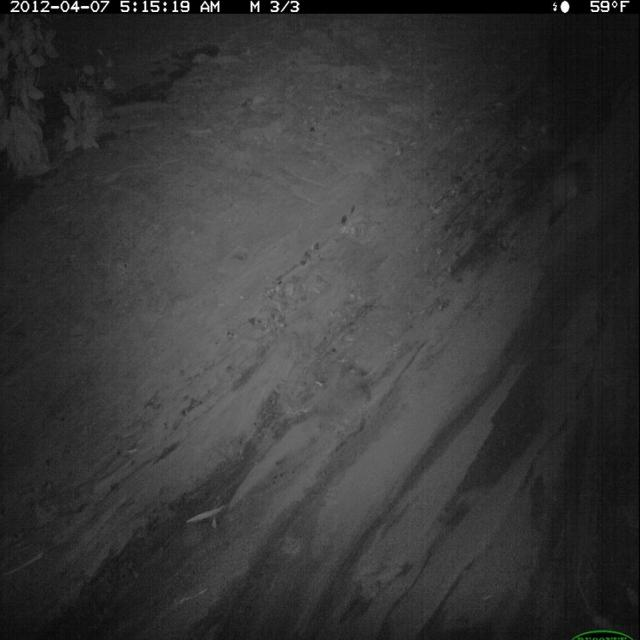opossum: (546, 153, 595, 232)
